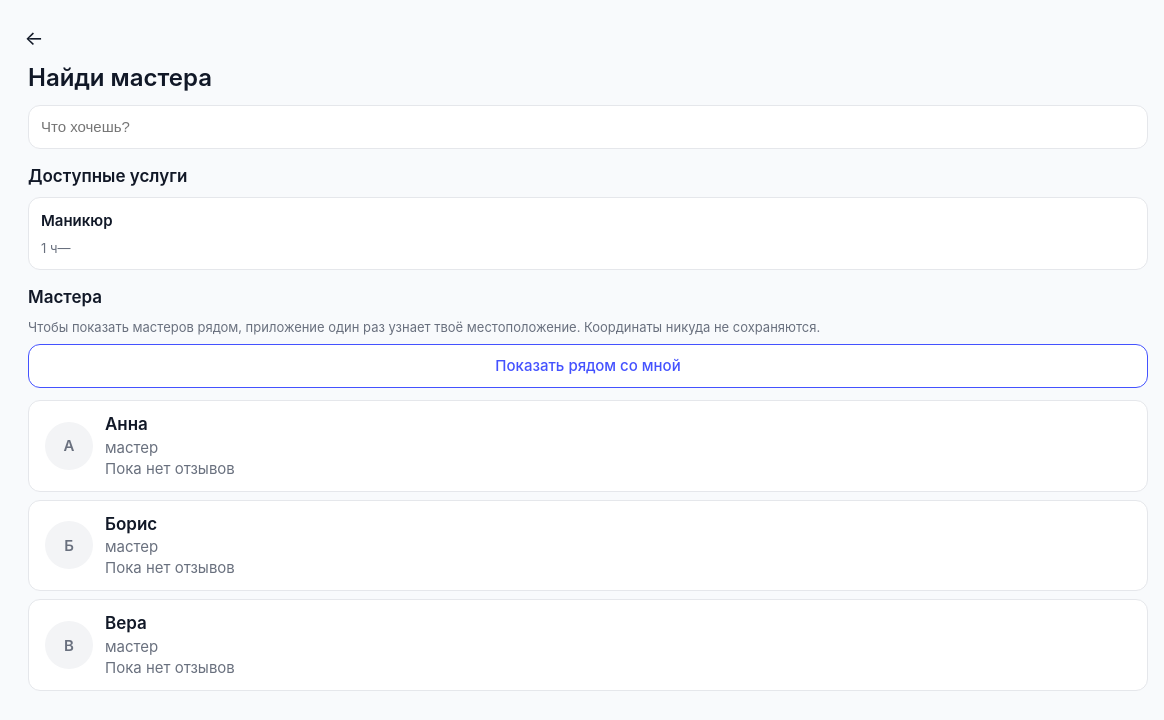
it: кнопка «Показать рядом со мной» (D3) › отказ ОС → честный текст, «Мастера» остаются, запроса с координатами нет
Click the button "Показать рядом со мной" at [588, 366], box [28,344,1148,388]
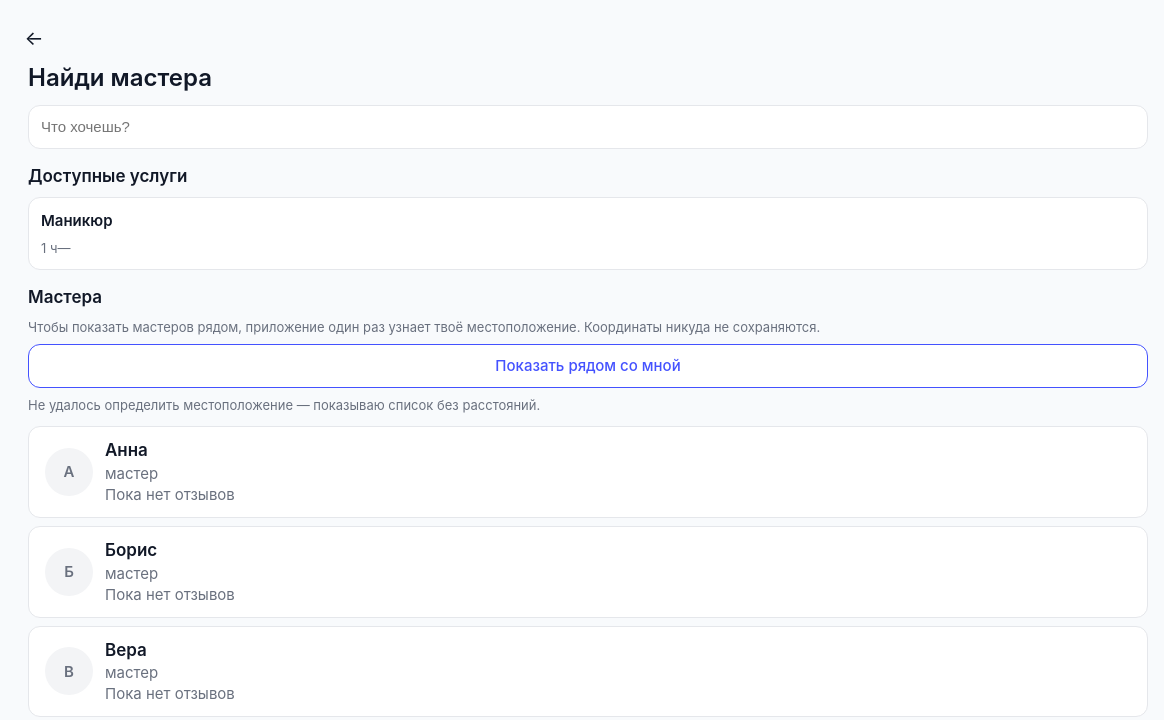
Expected: the heading "Мастера" is shown, [28,287,102,307]
Expected: the text "Не удалось определить местоположение — показываю список без расстояний." is shown, [28,397,540,413]
